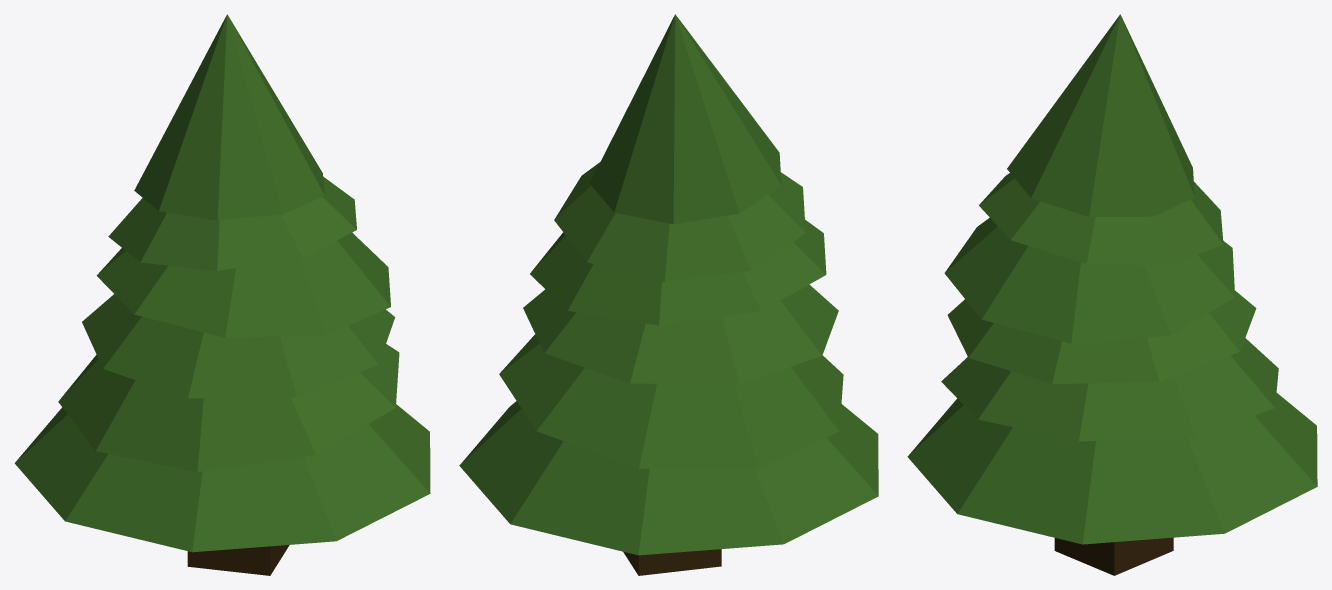
Rendered from Tree1.fbx.
3 renders of one model, left to right at view 1: azimuth 30°, elevation 25°; view 2: azimuth 150°, elevation 25°; view 3: azimuth 270°, elevation 25°, orthographic. The views are drawn at different scales.
Visible parts, largest first — view 1: Tree1; view 2: Tree1; view 3: Tree1.
Boxes of the visible parts, bbox=[...] form: Tree1: bbox=[14, 14, 430, 575]; Tree1: bbox=[459, 14, 878, 575]; Tree1: bbox=[907, 14, 1317, 575].
Bounding box in the file's own units: 164 × 231 × 161.
